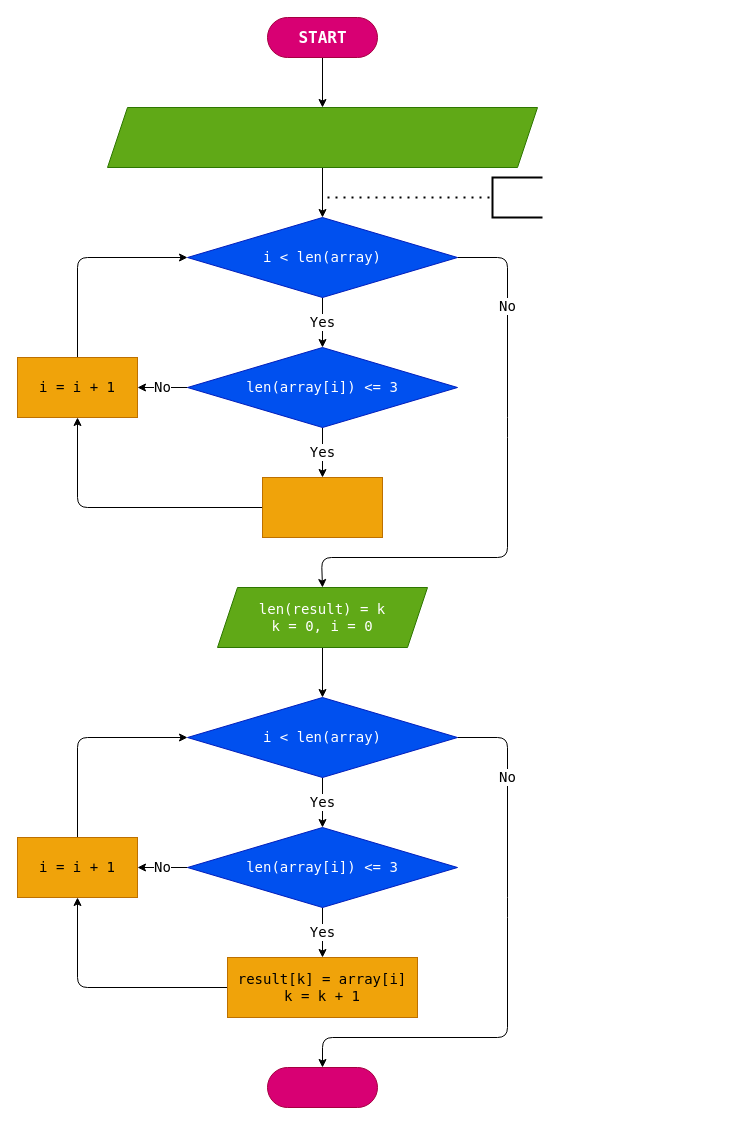
This 740x1125 diagram has some shape labels left out. The shapes that lost their labels are listed below. From the top down, each one's centre as x and y in pixels, then its label:
(x=322, y=137): array = ["hello", "2", "world", ":-)", "qw"] k = 0, i = 0
(x=517, y=197): len - длина массива/строки
(x=322, y=507): k = k + 1
(x=322, y=1087): END
